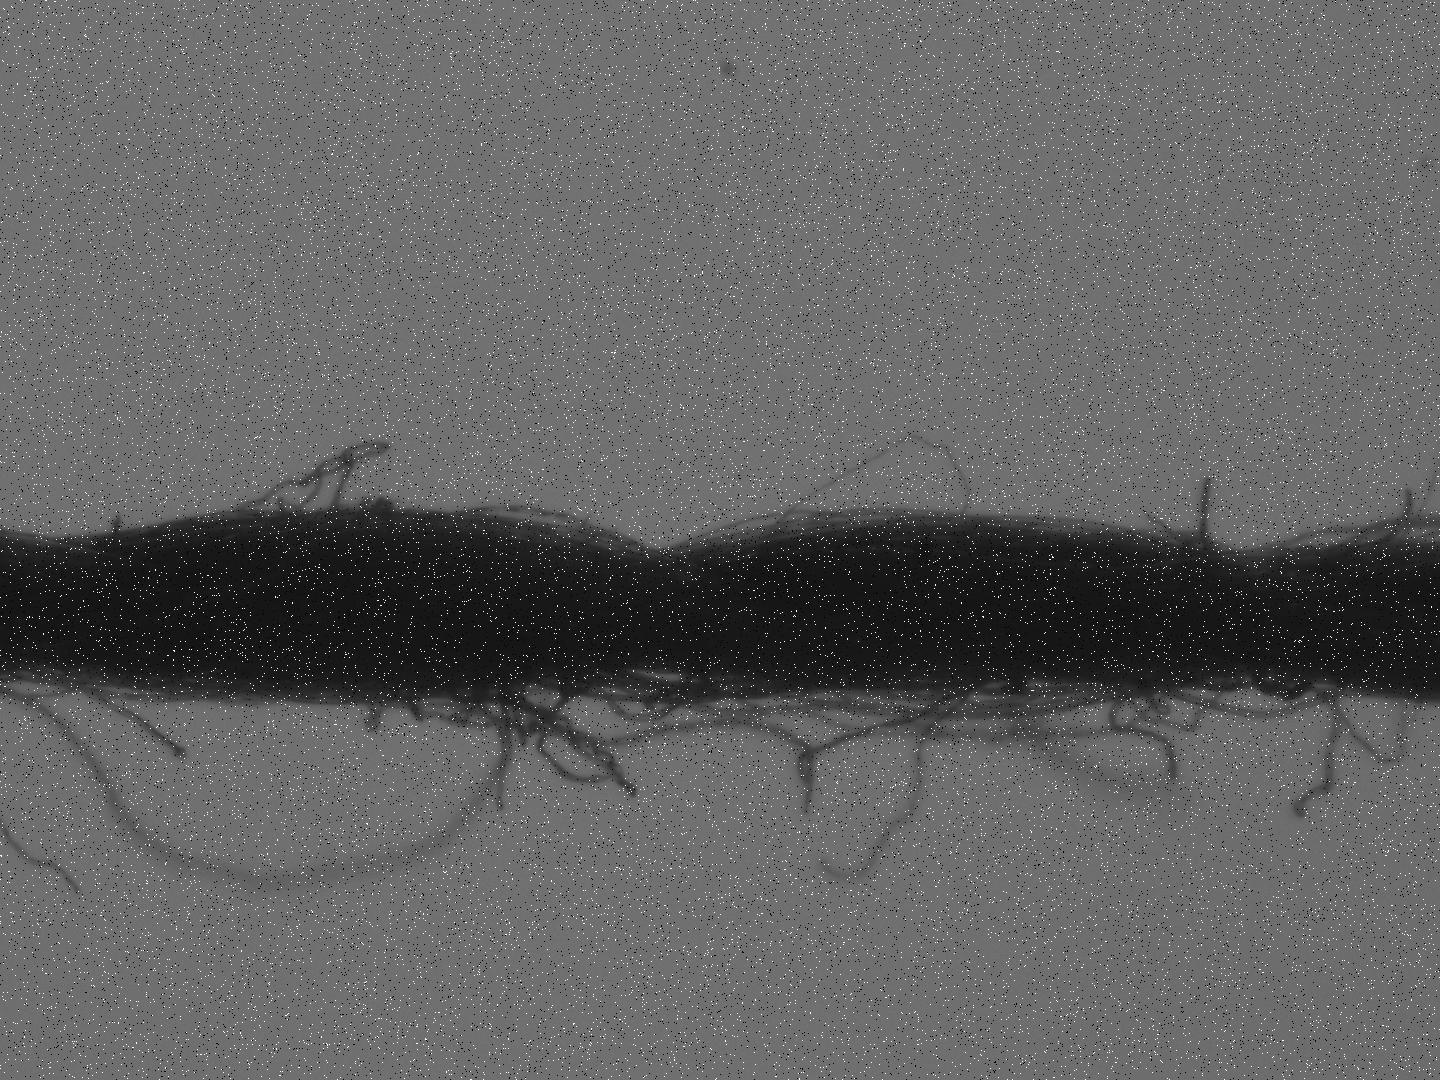loop_fiber: (10, 659, 518, 888), (400, 665, 644, 804), (752, 428, 975, 559), (222, 438, 404, 538), (839, 683, 1134, 724), (439, 503, 643, 558), (1162, 678, 1336, 723), (1110, 676, 1220, 736), (1236, 649, 1330, 710), (593, 668, 692, 725)
protruding_fiber: (807, 666, 1002, 884)
